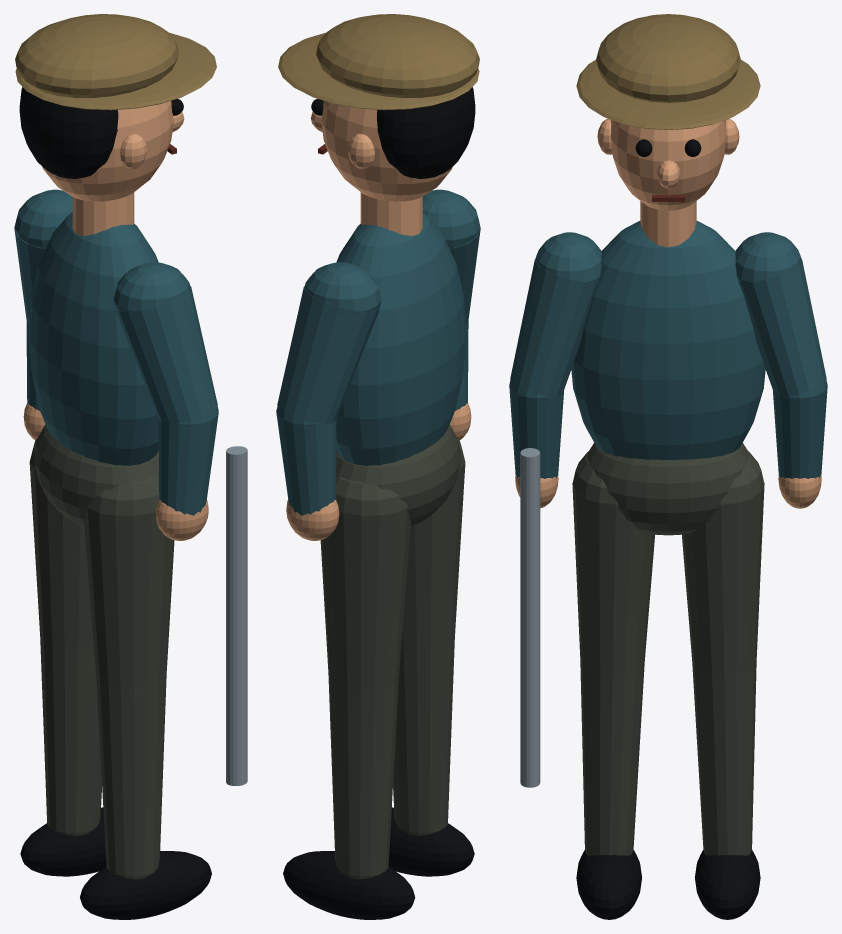
Rendered from person_01.dae.
3 views of the same model, side by side, from view 1: azimuth 30°, elevation 25°; view 2: azimuth 150°, elevation 25°; view 3: azimuth 270°, elevation 25° (orthographic).
Parts seen in each view (by area): view 1: part0node, part2node, part1node, part4node, part3node, part6node; view 2: part0node, part2node, part1node, part4node, part3node; view 3: part2node, part0node, part4node, part3node, part1node, part6node.
Part boxes in pixels (x1,y1,x2,y2): part0node: [29, 424, 174, 879]; part2node: [14, 189, 218, 515]; part1node: [19, 87, 211, 919]; part4node: [15, 14, 216, 110]; part3node: [23, 101, 208, 540]; part6node: [226, 446, 247, 785]; part0node: [320, 424, 465, 879]; part2node: [276, 189, 480, 515]; part1node: [283, 87, 475, 919]; part4node: [278, 14, 479, 110]; part3node: [286, 101, 471, 540]; part2node: [509, 221, 827, 478]; part0node: [572, 443, 764, 855]; part4node: [576, 14, 760, 129]; part3node: [515, 118, 821, 508]; part1node: [576, 139, 760, 919]; part6node: [520, 448, 540, 787].
Bounding box in the file's own units: 0.033 × 0.05 × 0.15.
